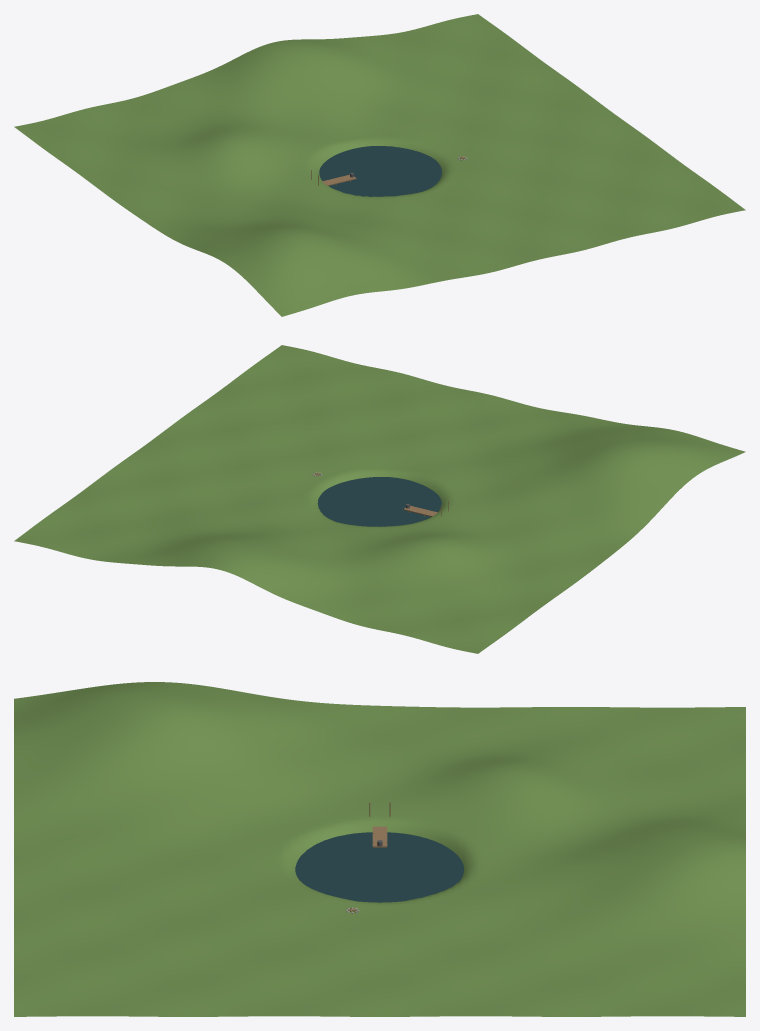
Rendered from lakeside.glb.
The picture shows the model from 3 angles, top to bottom: view 1: azimuth 30°, elevation 25°; view 2: azimuth 150°, elevation 25°; view 3: azimuth 270°, elevation 25°; orthographic projection. The views are drawn at different scales.
Visible parts, largest first — view 1: Ground, Lake; view 2: Ground, Lake; view 3: Ground, Lake.
Boxes of the visible parts, x1,y1,x2,y2 form: Ground: (14, 14, 745, 316); Lake: (319, 146, 441, 196); Ground: (14, 345, 745, 653); Lake: (317, 477, 441, 526); Ground: (14, 682, 745, 1016); Lake: (295, 832, 464, 902).
Size of the model in its own units: 80 by 7.96 by 80.
